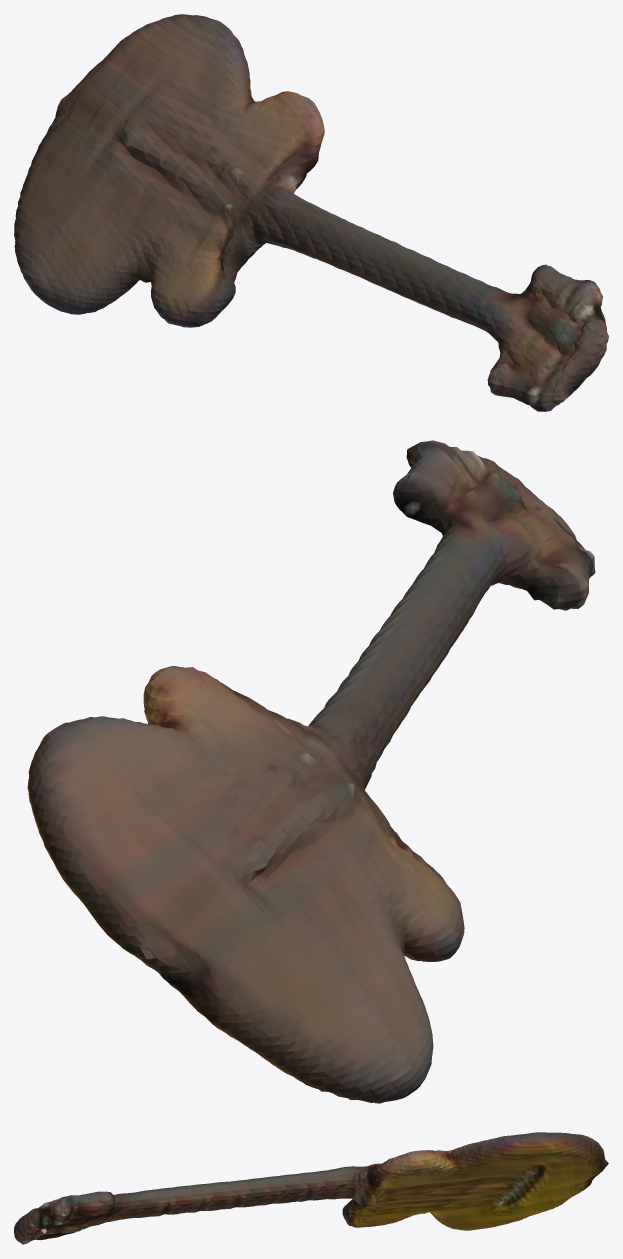
3 views of the same model, one above another, from view 1: azimuth 30°, elevation 25°; view 2: azimuth 150°, elevation 25°; view 3: azimuth 270°, elevation 25° (orthographic). The views are drawn at different scales.
Size of the model in its own units: 0.3901 by 0.2787 by 0.9189.
